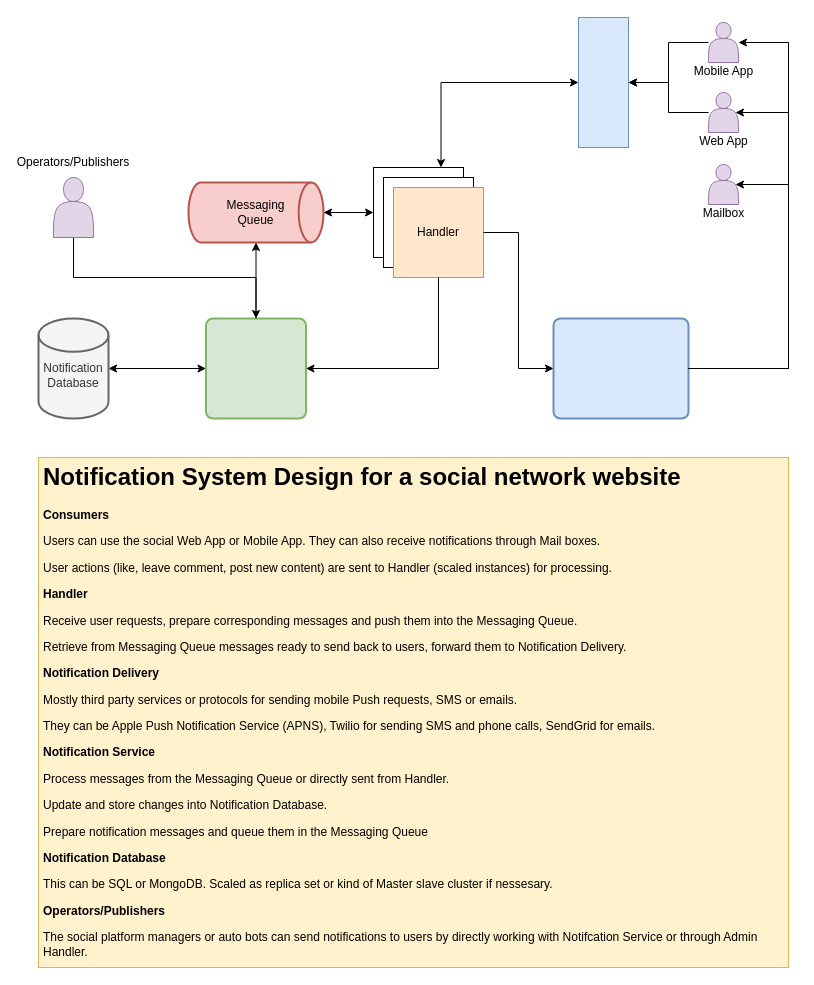
The diagram is 814 pixels wide and 985 high, and some of its shapes have lost their labels. Here are the shapes that lost their labels. From the top down, the centre of each, then its label:
point 603,82: LB
point 255,368: Notification Service
point 620,368: Notification Delivery APNS (Push) Twilio (SMS, Phone) SendGrid (Email)
